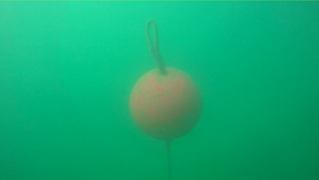buoy: (128, 67, 204, 141)
